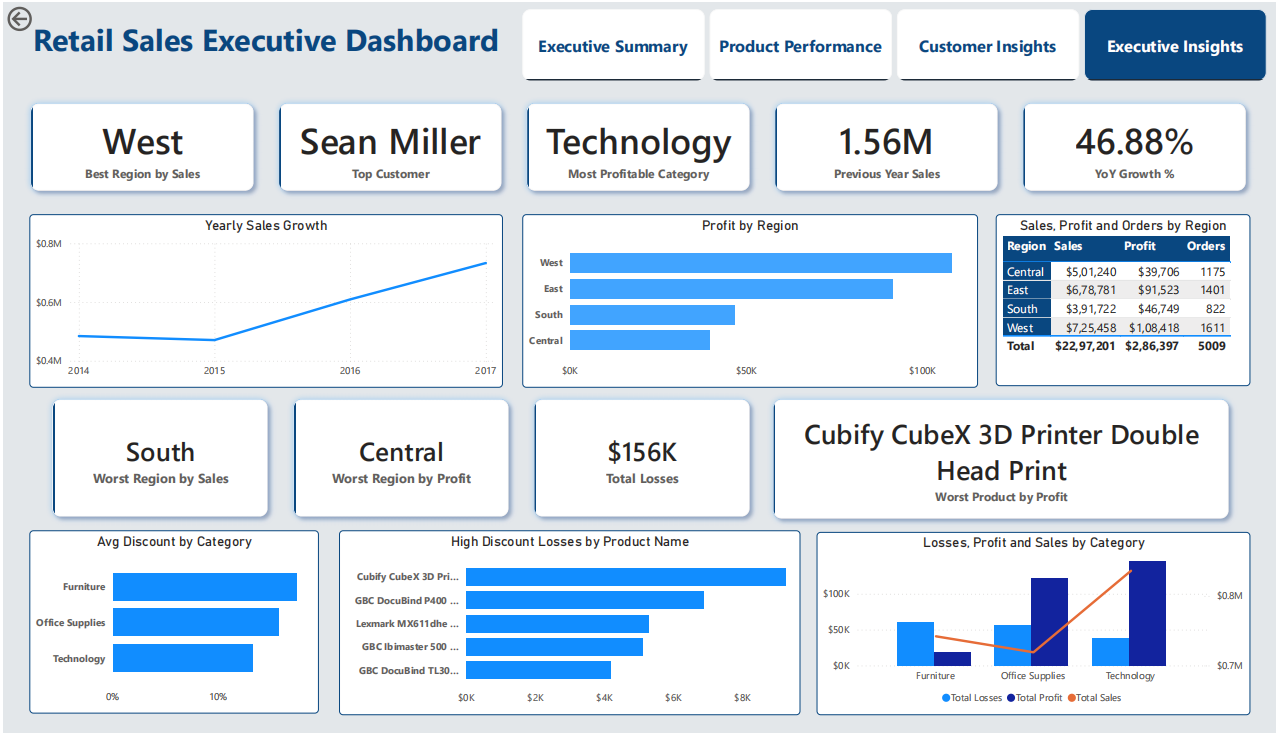

The dashboard page shown, as its layout file describes it:
{"tool":"powerbi","page":{"name":"Executive Insights","canvas":[1280,720],"ordinal":3},"visuals":[{"type":"cardVisual","fields":{"Data":["Orders.Best Region by Sales","Orders.Top Customers","Orders.Most Profitable Category"]},"box":[35.7,52.1,822,170.2],"z":0},{"type":"cardVisual","fields":{"Data":["Orders.Worst Product by Profit"]},"box":[837.1,52.1,397.9,170.2],"z":1000},{"type":"lineChart","title":"Yearly Sales Growth","fields":{"Category":["Date Table.Year"],"Y":["Orders.Total Sales"]},"box":[15.7,247.1,624.3,214.3],"z":2000},{"type":"barChart","title":"Profit by Region","fields":{"Category":["Regions.Region"],"Y":["Orders.Total Profit"]},"box":[655.9,247,624.4,214.1],"z":3000},{"type":"tableEx","fields":{"Values":["Regions.Region","Orders.Total Sales","Orders.Total Profit","Orders.Total Orders"]},"box":[179.8,477.5,296.4,212.7],"z":4000},{"type":"actionButton","box":[0,0,100,40],"z":5000},{"type":"cardVisual","fields":{"Data":["Orders.Previous Year Sales","Orders.YoY Growth %"]},"box":[650.4,477.5,414.4,179.8],"z":6000},{"type":"pageNavigator","box":[492.3,0,787.7,49.4],"z":6001}]}

Visuals, with their boxes in screenshot pixels (x1, y1, x2, y2), scaled from the page's 1280x720 canvas onto the 1276x733 screenshot:
cardVisual - Orders.Best Region by Sales x Orders.Top Customers: {"x1": 36, "y1": 53, "x2": 855, "y2": 226}
cardVisual - Orders.Worst Product by Profit: {"x1": 834, "y1": 53, "x2": 1231, "y2": 226}
"Yearly Sales Growth" lineChart: {"x1": 16, "y1": 252, "x2": 638, "y2": 470}
"Profit by Region" barChart: {"x1": 654, "y1": 251, "x2": 1275, "y2": 469}
tableEx - Regions.Region x Orders.Total Sales: {"x1": 179, "y1": 486, "x2": 475, "y2": 703}
actionButton: {"x1": 0, "y1": 0, "x2": 100, "y2": 41}
cardVisual - Orders.Previous Year Sales x Orders.YoY Growth %: {"x1": 648, "y1": 486, "x2": 1061, "y2": 669}
pageNavigator: {"x1": 491, "y1": 0, "x2": 1275, "y2": 50}
